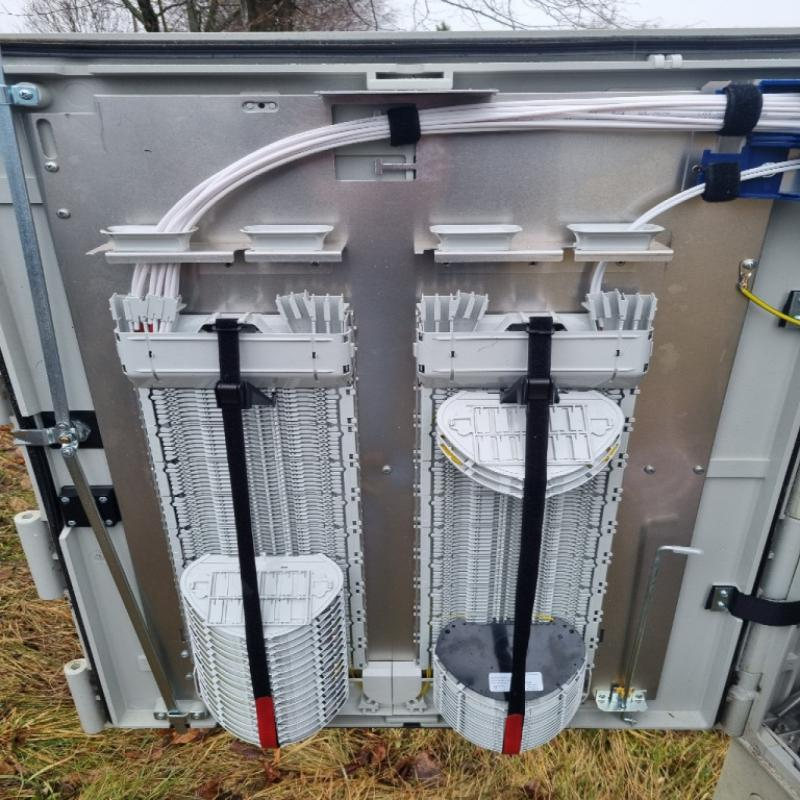NT-Gehause: (0, 33, 797, 800)
Spleiskassetten: (86, 218, 374, 756), (409, 219, 685, 765)
